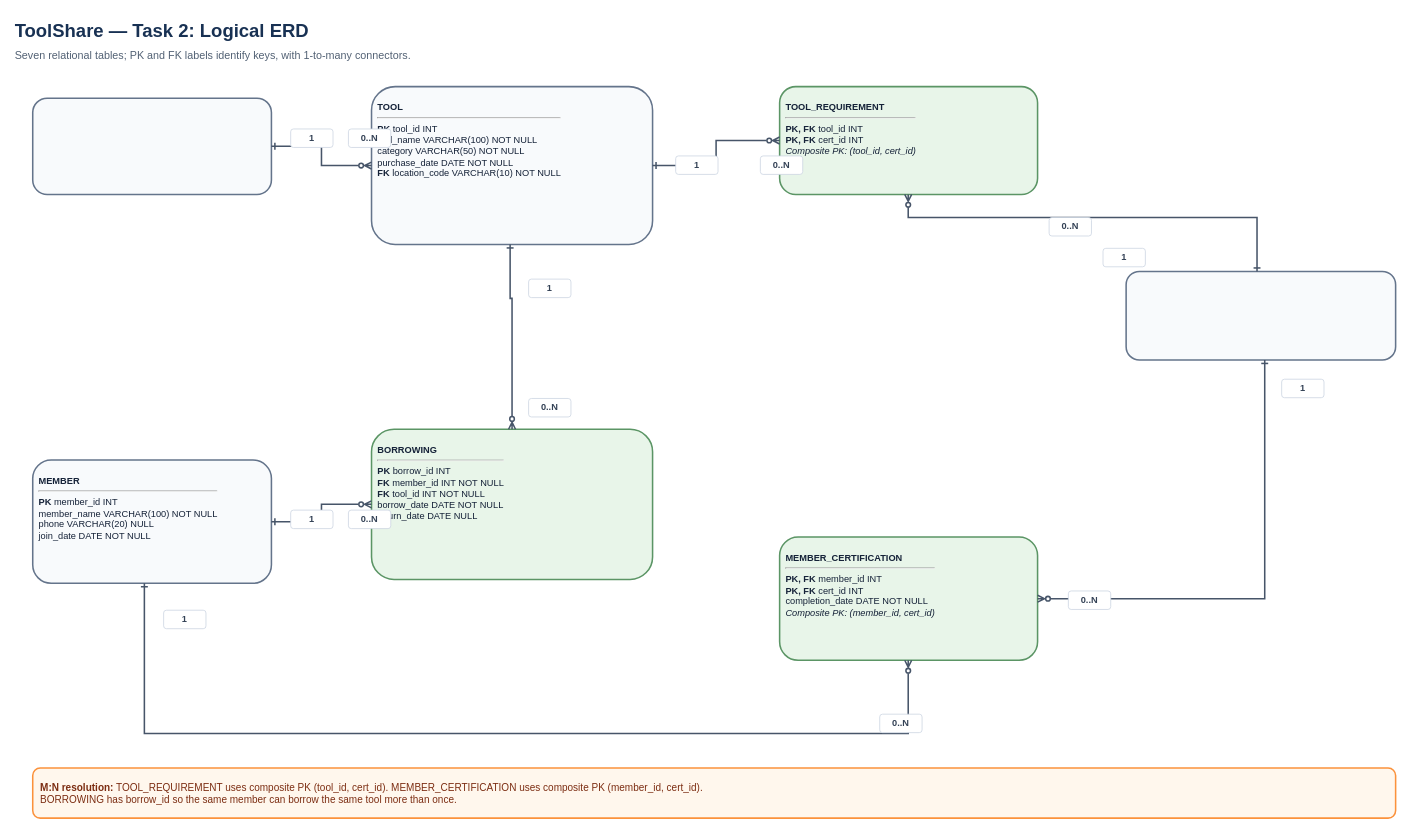
The diagram is 1409 pixels wide and 832 high, and some of its shapes have lost their labels. The shapes that lost their labels are listed below. From the top down, each one's centre as x and y in pixels, then its label:
At (x=152, y=146): "STORAGE_LOCATION PK location_code VARCHAR(10) description VARCHAR(100) NOT NULL".
At (x=1260, y=315): "CERTIFICATION PK cert_id INT cert_name VARCHAR(100) NOT NULL".
